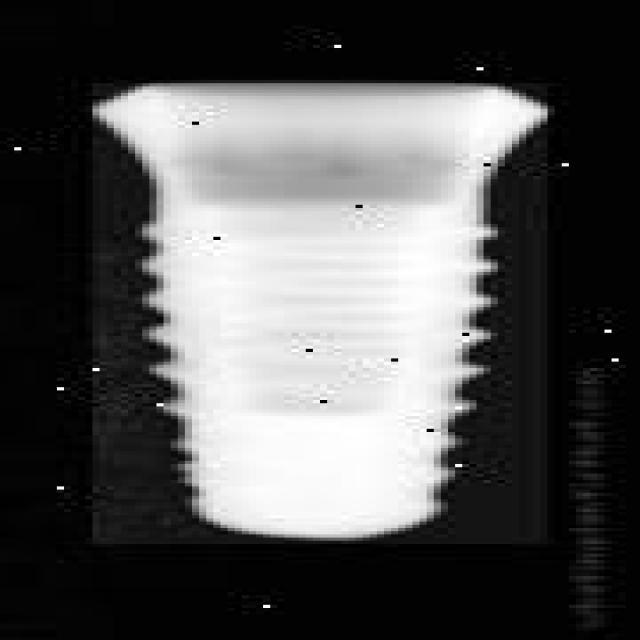Titan Implant Implant: (92, 83, 548, 544)
